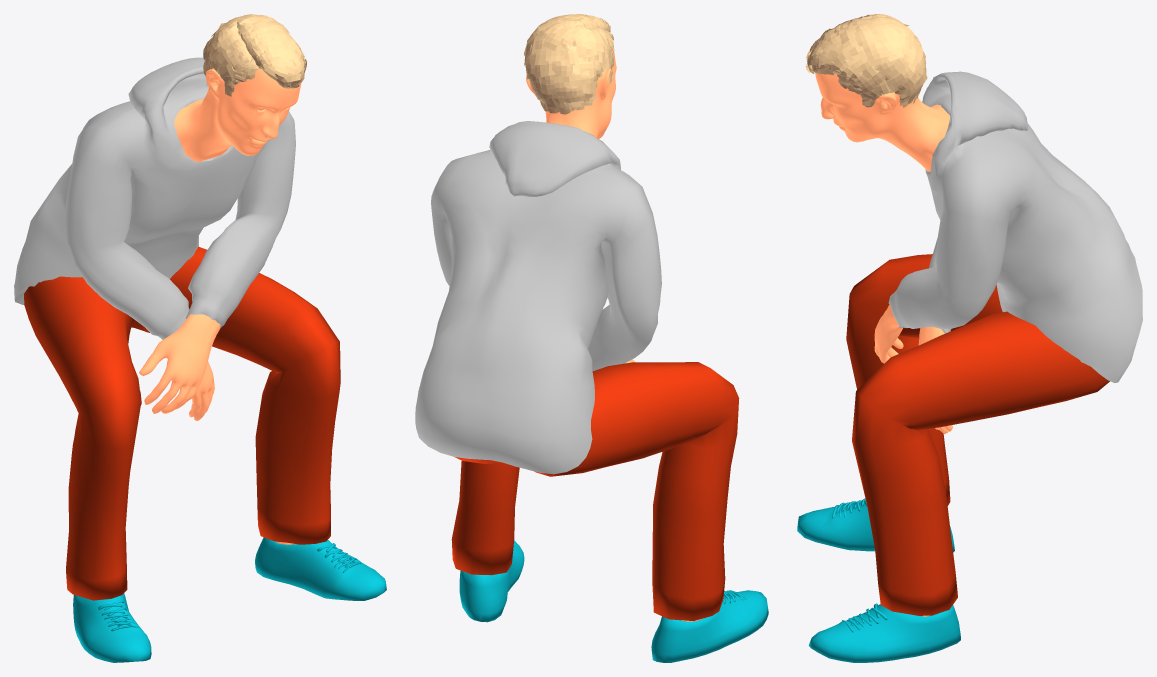
Rendered from Man_09_Sitting-transformed.glb.
The picture shows the model from 3 angles, left to right: view 1: azimuth 30°, elevation 25°; view 2: azimuth 150°, elevation 25°; view 3: azimuth 270°, elevation 25°; orthographic projection.
Parts seen in each view (by area): view 1: Bottoms, Top, Body, Shoes, Hair; view 2: Top, Bottoms, Shoes, Hair, Body; view 3: Top, Bottoms, Shoes, Hair, Body.
Boxes of the visible parts, x1,y1,x2,y2 form: Bottoms: [24, 246, 340, 600]; Top: [14, 57, 295, 339]; Body: [139, 39, 301, 544]; Shoes: [73, 537, 386, 662]; Hair: [203, 14, 306, 96]; Top: [415, 121, 661, 474]; Bottoms: [451, 362, 739, 620]; Shoes: [459, 540, 768, 662]; Hair: [524, 14, 614, 114]; Body: [526, 28, 703, 621]; Top: [888, 71, 1142, 382]; Bottoms: [846, 254, 1109, 615]; Shoes: [797, 498, 960, 662]; Hair: [805, 14, 927, 107]; Body: [815, 73, 952, 616].
Size of the model in its own units: 0.6581 by 1.28 by 0.6724.
